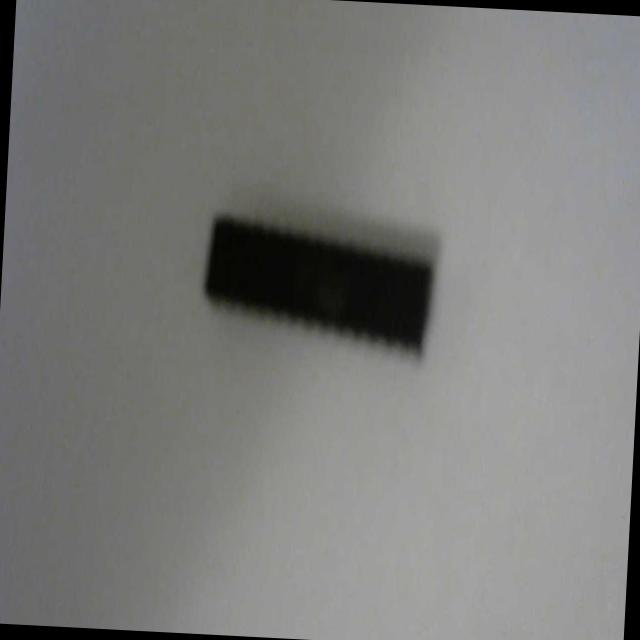atmega: (197, 204, 441, 365)
